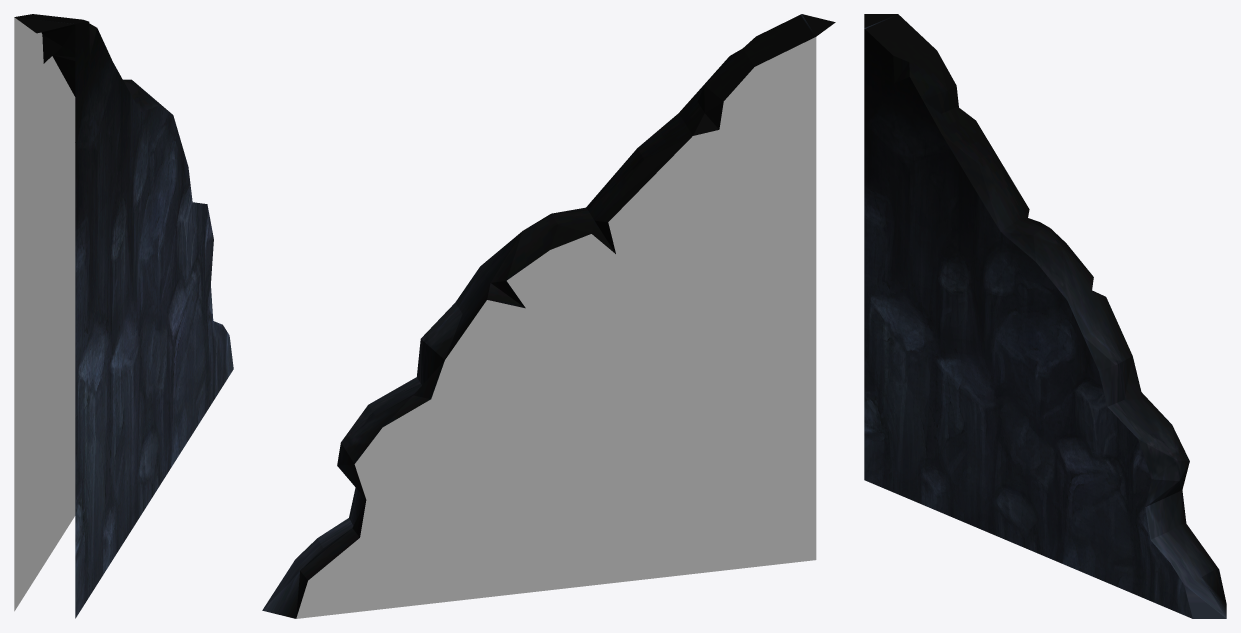
The model's file is mine_fade_transition_10.fbx.
The picture shows the model from 3 angles, left to right: view 1: azimuth 30°, elevation 25°; view 2: azimuth 150°, elevation 25°; view 3: azimuth 270°, elevation 25°; orthographic projection. The views are drawn at different scales.
Parts seen in each view (by area): view 1: obj2.019; view 2: obj2.019; view 3: obj2.019.
Boxes of the visible parts, box(x1,y1,x2,y2) form: obj2.019: box(14, 14, 233, 618); obj2.019: box(262, 14, 835, 618); obj2.019: box(864, 14, 1226, 618).
Size of the model in its own units: 4 by 5.5 by 4.
